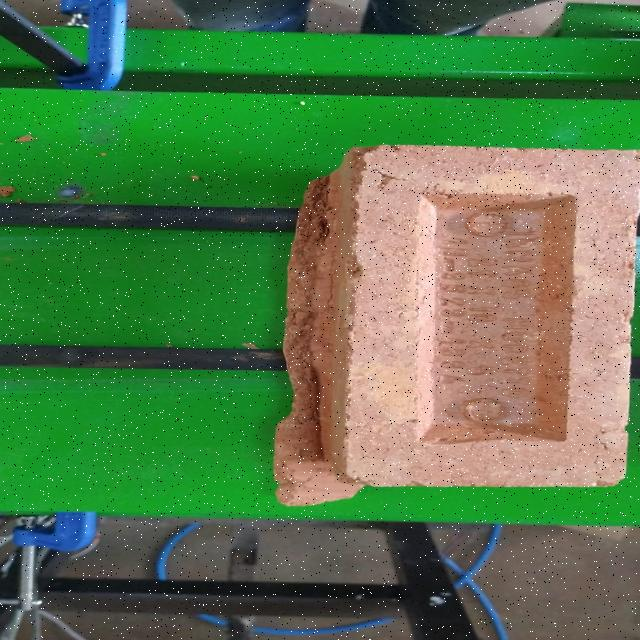bricks_ruin: (272, 144, 640, 506)
